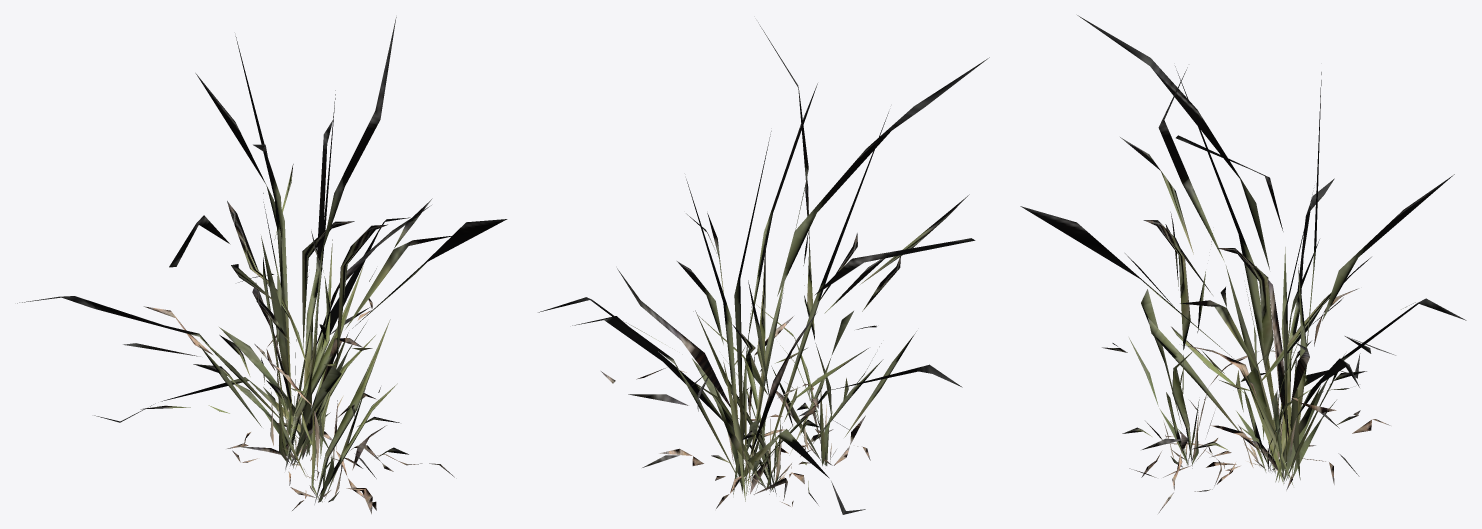
Rendered from grass_lo.glb.
The picture shows the model from 3 angles, left to right: view 1: azimuth 30°, elevation 25°; view 2: azimuth 150°, elevation 25°; view 3: azimuth 270°, elevation 25°; orthographic projection. The views are drawn at different scales.
Visible parts, largest first — view 1: grass_e_lo, grass_d_lo, grass_c_lo; view 2: grass_e_lo, grass_d_lo, grass_c_lo; view 3: grass_e_lo, grass_d_lo, grass_c_lo.
Boxes of the visible parts, x1,y1,x2,y2 form: grass_e_lo: (17,17,507,473); grass_d_lo: (123,201,399,510); grass_c_lo: (238,224,454,514); grass_e_lo: (538,22,989,514); grass_d_lo: (628,233,883,508); grass_c_lo: (689,178,916,465); grass_e_lo: (1020,15,1466,485); grass_d_lo: (1129,224,1371,490); grass_c_lo: (1102,212,1395,513).
Bounding box in the file's own units: 0.3417 × 0.3752 × 0.344.
1 material, 1 textured.
